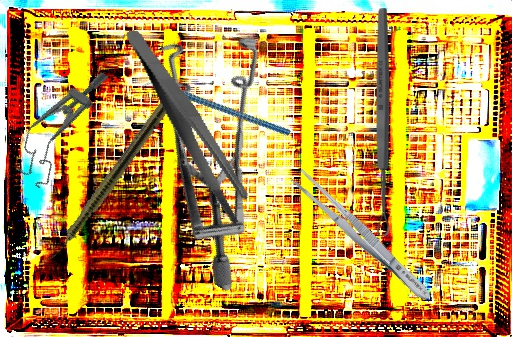Chopper: (137, 38, 292, 181)
Dressing Forceps: (124, 12, 255, 238), (288, 166, 437, 307)
Handpiece: (41, 98, 172, 271)
Speculum: (71, 0, 345, 293), (4, 56, 117, 191)
Surgical Spoon: (375, 8, 390, 236)
